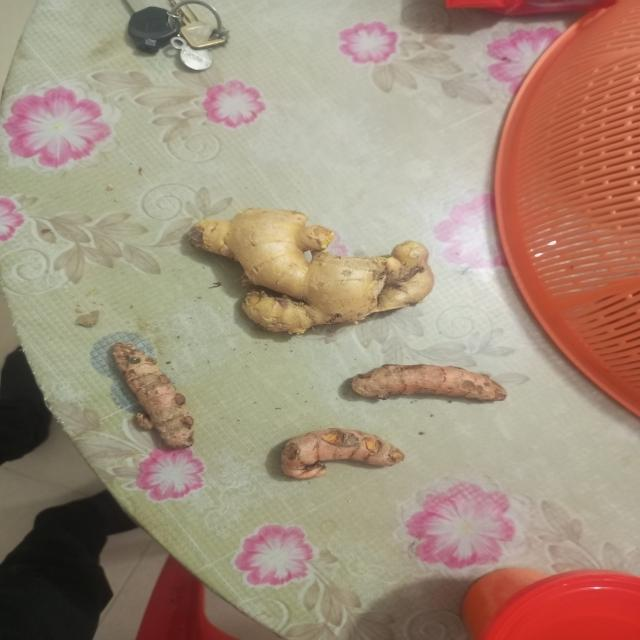ginger: (193, 210, 434, 333), (111, 347, 204, 450), (347, 362, 505, 405), (278, 430, 406, 480)
